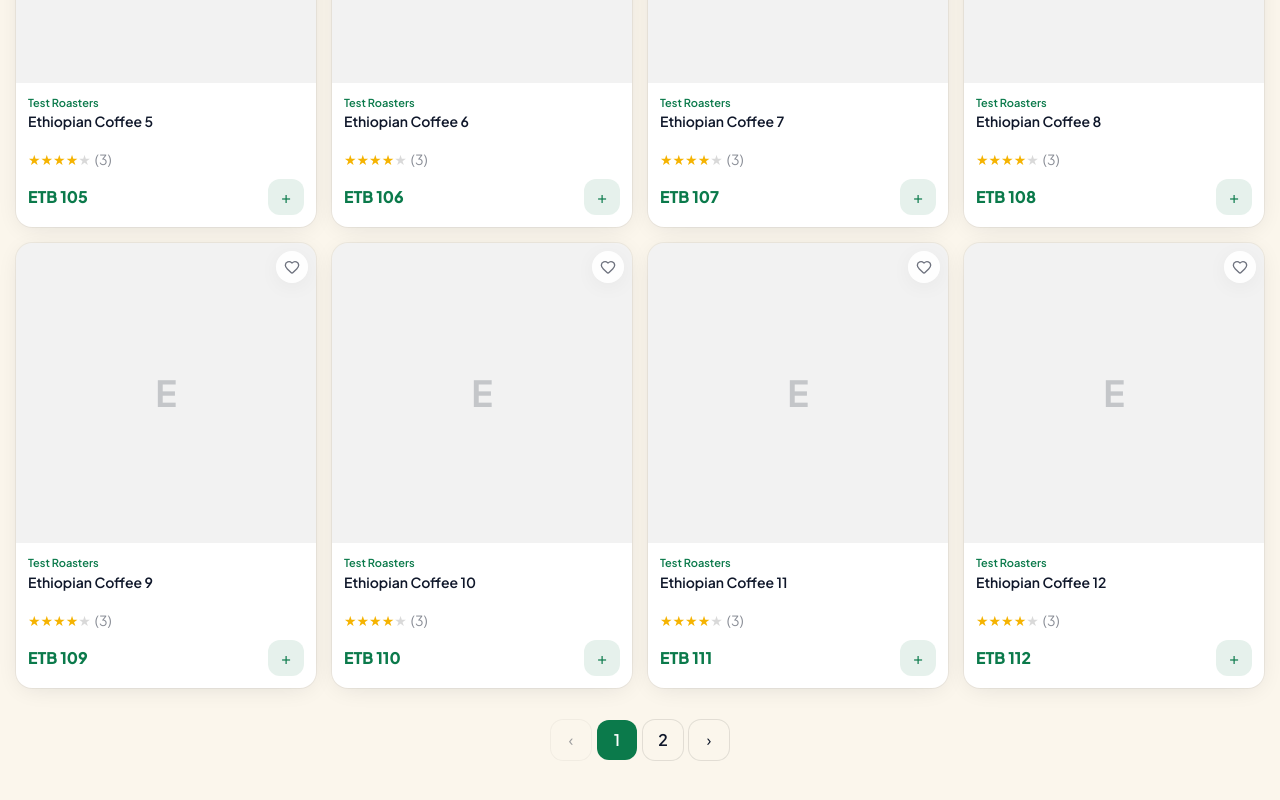
Test: Browse — search › paginates search results on the client (12 per page)
(page scrolled)
Expected: the heading "Ethiopian Coffee 12" is shown, [976,572,1106,590]
Expected: the text "Ethiopian Coffee 13" is not shown
Step 1. Click the button "2" → (663, 740), box [643,720,683,760]
(page scrolled)
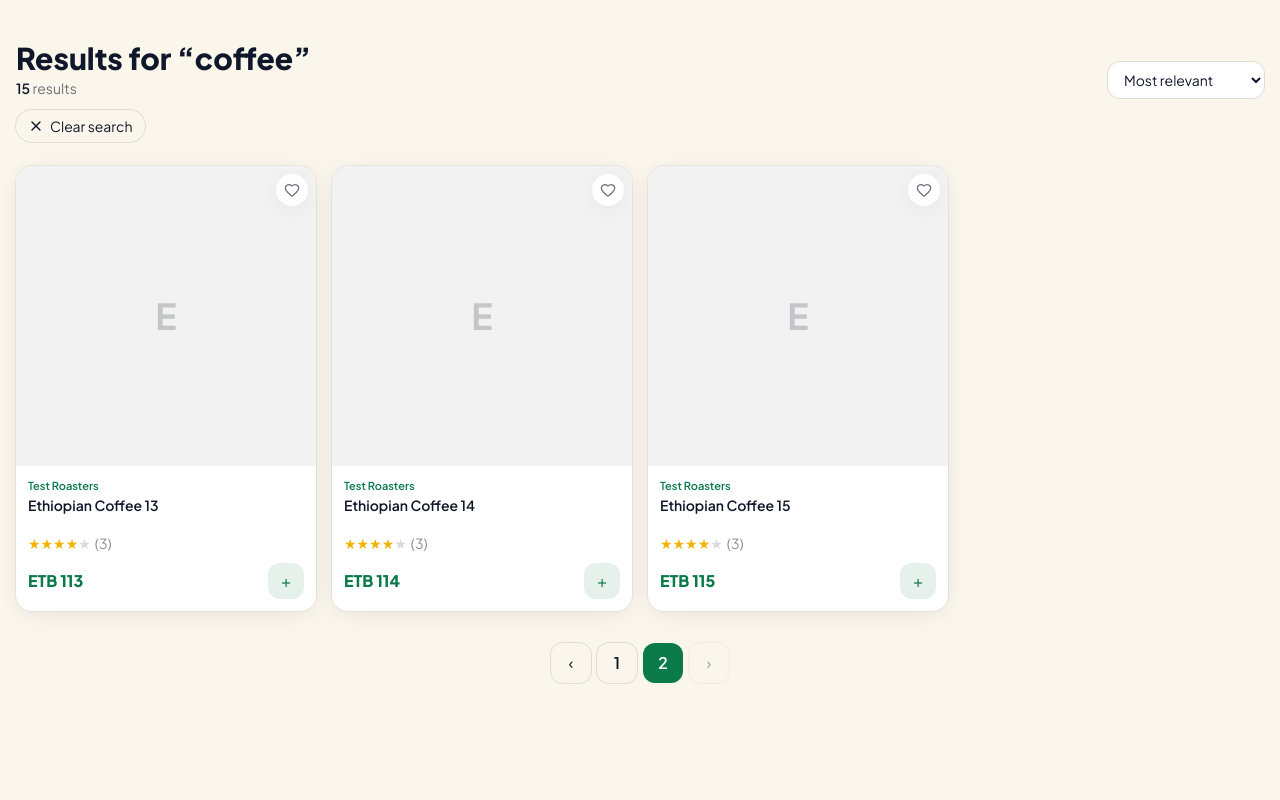
Expected: the heading "Ethiopian Coffee 13" is shown, [28,496,159,514]
